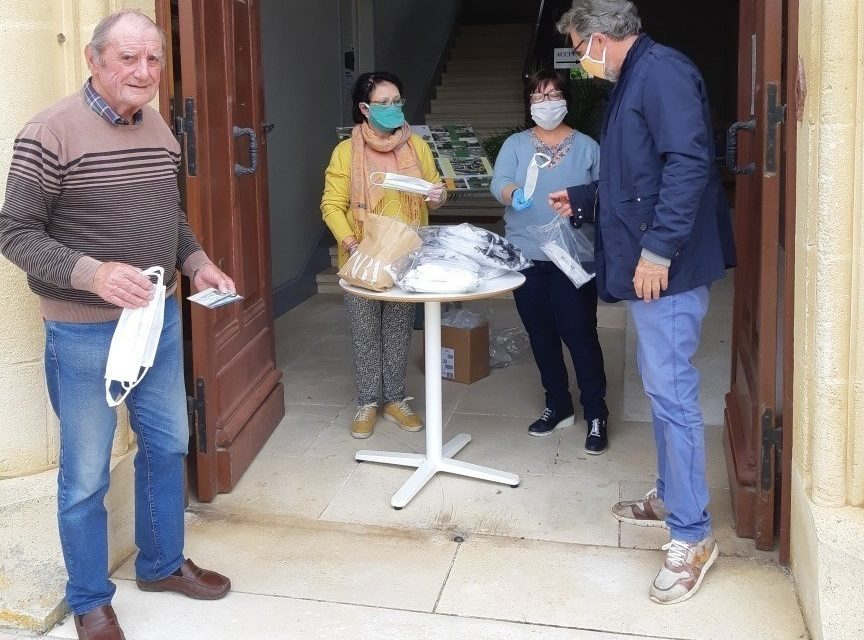with_mask: (572, 33, 621, 79), (375, 92, 404, 137), (531, 88, 565, 125)
without_mask: (113, 44, 158, 98)
